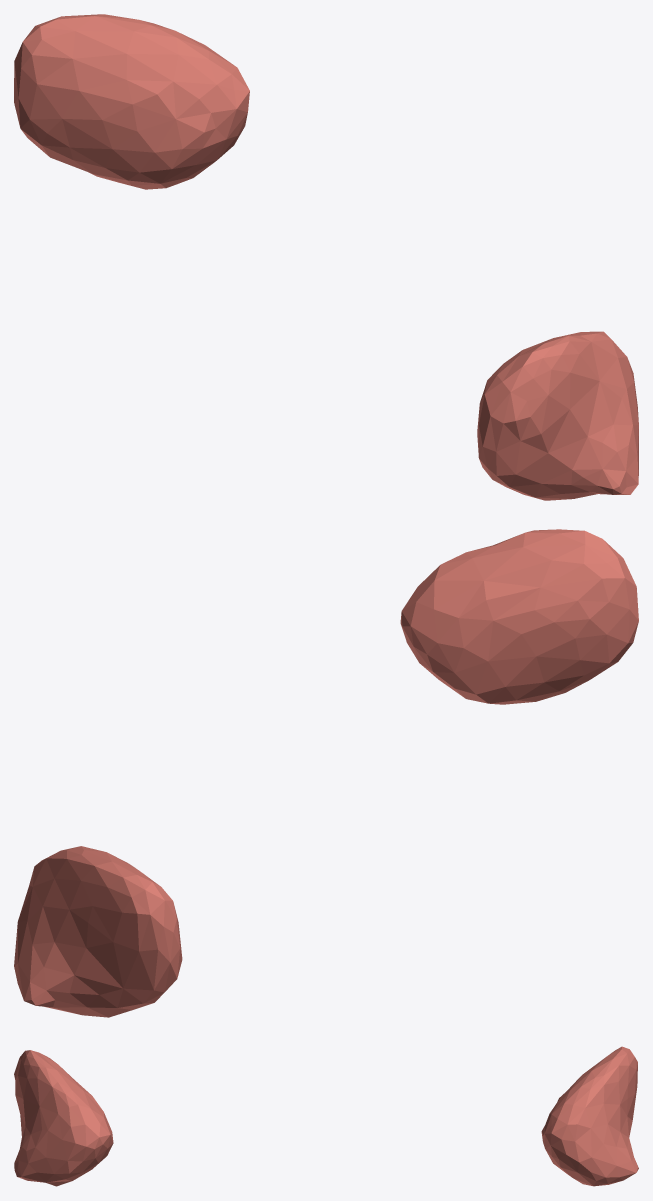
3 renders of one model, top to bottom at view 1: azimuth 30°, elevation 25°; view 2: azimuth 150°, elevation 25°; view 3: azimuth 270°, elevation 25°, orthographic. The views are drawn at different scales.
Visible parts, largest first — view 1: 364.obj; view 2: 364.obj; view 3: 364.obj.
Part boxes in pixels (box(x1,y1,x2,y2)): 364.obj: box(14, 14, 638, 500); 364.obj: box(14, 529, 638, 1017); 364.obj: box(14, 1046, 638, 1186).
Bounding box in the file's own units: 628 × 532 × 2787.
